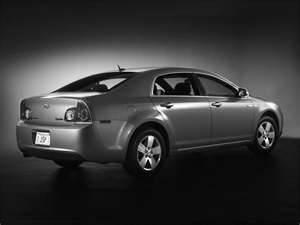car: (14, 63, 287, 181)
